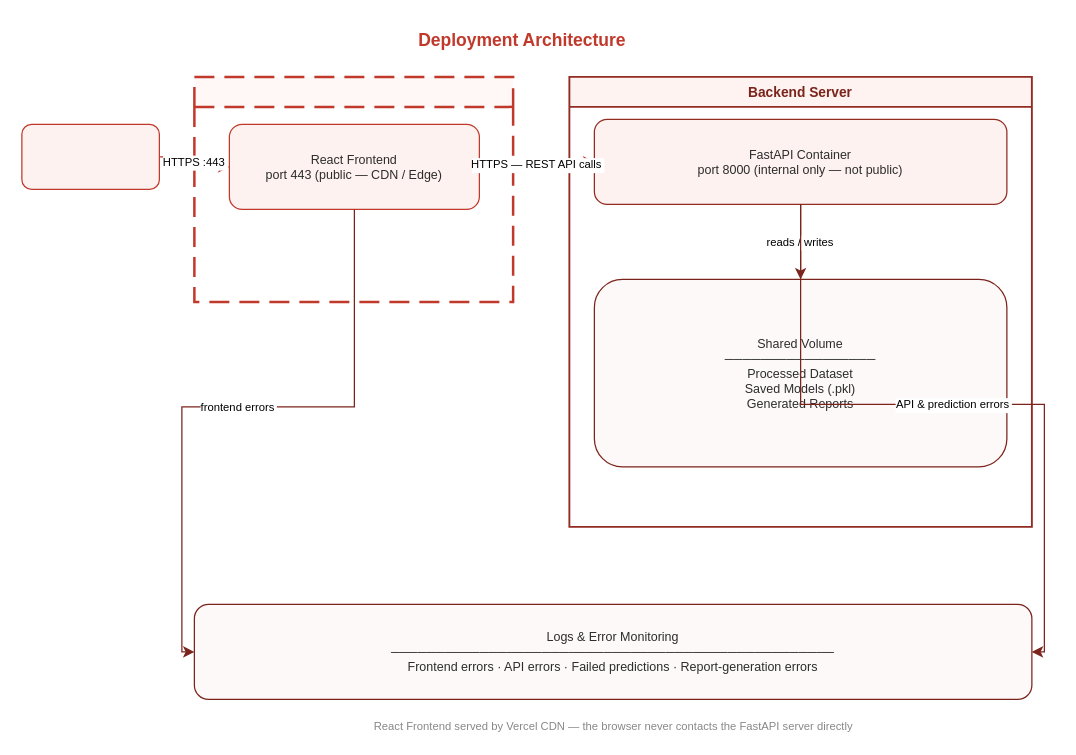
This 1076x755 diagram has some shape labels left out. Here are the shapes that lost their labels. From the top down, the box of each, then its label:
(21, 123, 159, 189): Browser (End User)
(192, 75, 514, 302): Vercel Platform
